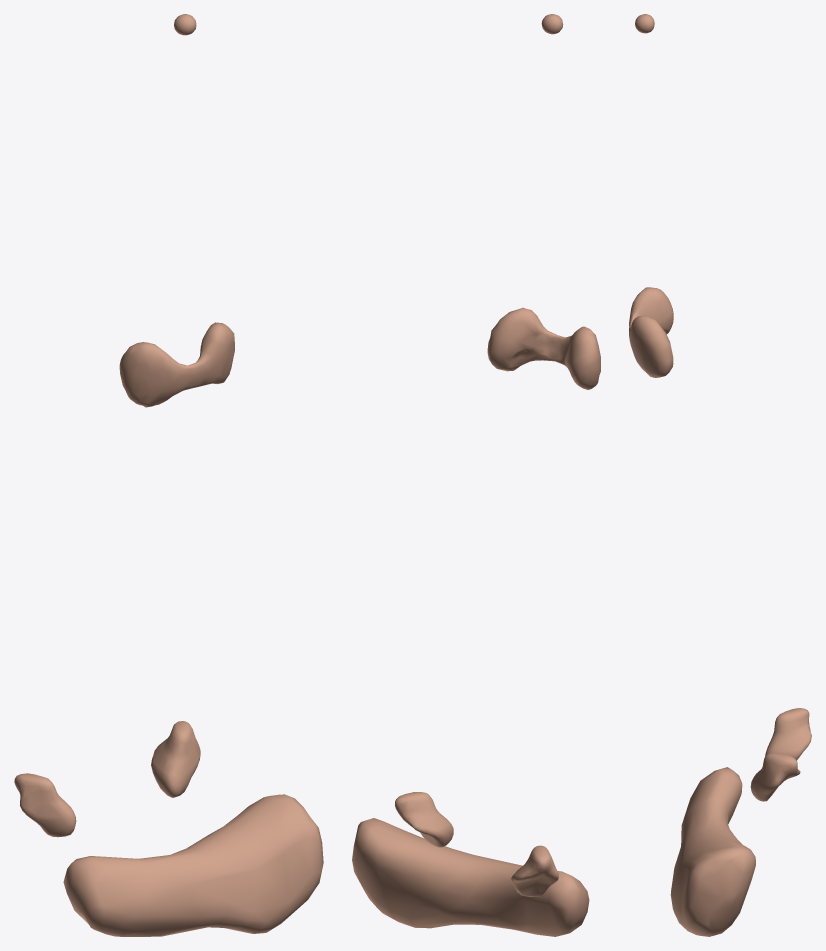
File: pediatric_adolescent_female.endocrine.LOD0.glb
3 views of the same model, side by side, from view 1: azimuth 30°, elevation 25°; view 2: azimuth 150°, elevation 25°; view 3: azimuth 270°, elevation 25° (orthographic). The views are drawn at different scales.
Parts seen in each view (by area): view 1: PEDIATRIC.ADOLESCENT.FEMALE.ENDOCRINE.PANCREAS, PEDIATRIC.ADOLESCENT.FEMALE.ENDOCRINE.THYROID, PEDIATRIC.ADOLESCENT.FEMALE.ENDOCRINE.ADRENAL.L, PEDIATRIC.ADOLESCENT.FEMALE.ENDOCRINE.ADRENAL.R; view 2: PEDIATRIC.ADOLESCENT.FEMALE.ENDOCRINE.PANCREAS, PEDIATRIC.ADOLESCENT.FEMALE.ENDOCRINE.THYROID, PEDIATRIC.ADOLESCENT.FEMALE.ENDOCRINE.ADRENAL.L, PEDIATRIC.ADOLESCENT.FEMALE.ENDOCRINE.ADRENAL.R; view 3: PEDIATRIC.ADOLESCENT.FEMALE.ENDOCRINE.PANCREAS, PEDIATRIC.ADOLESCENT.FEMALE.ENDOCRINE.THYROID, PEDIATRIC.ADOLESCENT.FEMALE.ENDOCRINE.ADRENAL.R, PEDIATRIC.ADOLESCENT.FEMALE.ENDOCRINE.ADRENAL.L.
Boxes of the visible parts, <box> form: PEDIATRIC.ADOLESCENT.FEMALE.ENDOCRINE.PANCREAS: <box>63,794,323,936</box>; PEDIATRIC.ADOLESCENT.FEMALE.ENDOCRINE.THYROID: <box>119,322,234,407</box>; PEDIATRIC.ADOLESCENT.FEMALE.ENDOCRINE.ADRENAL.L: <box>151,721,200,797</box>; PEDIATRIC.ADOLESCENT.FEMALE.ENDOCRINE.ADRENAL.R: <box>14,773,76,837</box>; PEDIATRIC.ADOLESCENT.FEMALE.ENDOCRINE.PANCREAS: <box>352,818,589,936</box>; PEDIATRIC.ADOLESCENT.FEMALE.ENDOCRINE.THYROID: <box>487,307,600,389</box>; PEDIATRIC.ADOLESCENT.FEMALE.ENDOCRINE.ADRENAL.L: <box>395,792,453,847</box>; PEDIATRIC.ADOLESCENT.FEMALE.ENDOCRINE.ADRENAL.R: <box>511,845,558,896</box>; PEDIATRIC.ADOLESCENT.FEMALE.ENDOCRINE.PANCREAS: <box>670,767,755,936</box>; PEDIATRIC.ADOLESCENT.FEMALE.ENDOCRINE.THYROID: <box>629,287,673,377</box>; PEDIATRIC.ADOLESCENT.FEMALE.ENDOCRINE.ADRENAL.R: <box>765,708,811,760</box>; PEDIATRIC.ADOLESCENT.FEMALE.ENDOCRINE.ADRENAL.L: <box>750,752,800,801</box>.
Size of the model in its own units: 0.1317 by 0.4818 by 0.0918.
